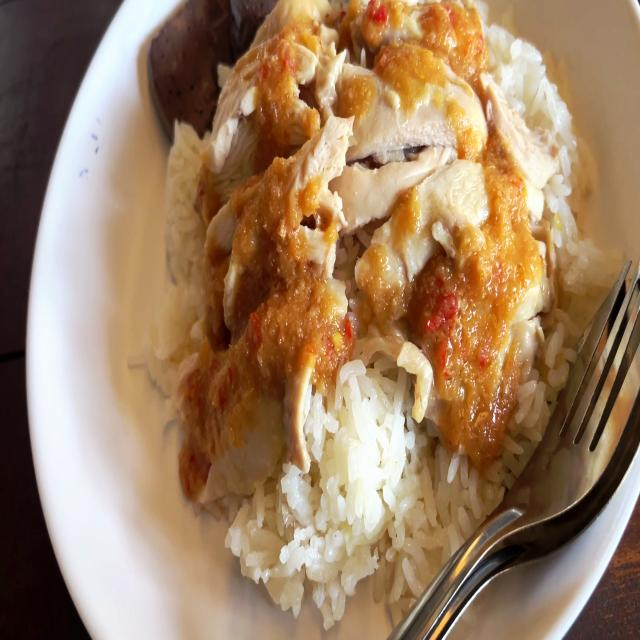boiled_chicken: (211, 26, 505, 423)
boiled_chicken_blood_jelly: (148, 4, 228, 121)
chicken_rice: (130, 10, 597, 604)
